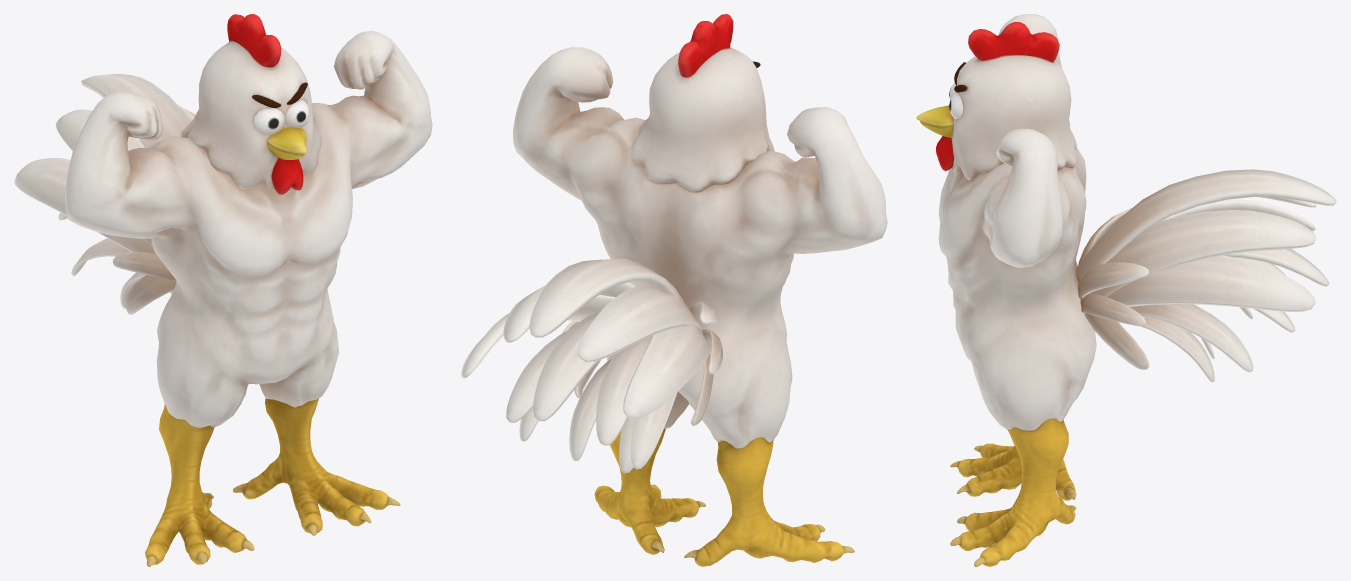
File: i_huhn.glb
3 views of the same model, side by side, from view 1: azimuth 30°, elevation 25°; view 2: azimuth 150°, elevation 25°; view 3: azimuth 270°, elevation 25° (orthographic). The views are drawn at different scales.
Parts seen in each view (by area): view 1: Object006_Chicken_0, Object012_Chicken_0, Object029_Chicken_0, Object013_Chicken_0, Sphere001, Object034_Chicken_0, Object021_Chicken_0, Object033_Chicken_0, Box001, Object031_Chicken_0; view 2: Object006_Chicken_0, Object012_Chicken_0, Object021_Chicken_0, Object029_Chicken_0, Object013_Chicken_0, Object030_Chicken_0, Object035_Chicken_0, Object032_Chicken_0, Object031_Chicken_0, Object034_Chicken_0, Object033_Chicken_0; view 3: Object006_Chicken_0, Object012_Chicken_0, Object029_Chicken_0, Object021_Chicken_0, Object013_Chicken_0, Object031_Chicken_0, Object014_Chicken_0, Object032_Chicken_0, Object034_Chicken_0, Object035_Chicken_0, Object033_Chicken_0, Object030_Chicken_0.
Boxes of the visible parts, x1=… form: Object006_Chicken_0: x1=65, y1=31, x2=432, y2=566; Object012_Chicken_0: x1=181, y1=14, x2=321, y2=194; Object029_Chicken_0: x1=14, y1=158, x2=155, y2=254; Object013_Chicken_0: x1=81, y1=74, x2=191, y2=147; Sphere001: x1=253, y1=100, x2=309, y2=135; Object034_Chicken_0: x1=125, y1=275, x2=176, y2=314; Object021_Chicken_0: x1=55, y1=105, x2=195, y2=151; Object033_Chicken_0: x1=112, y1=251, x2=176, y2=281; Box001: x1=271, y1=158, x2=303, y2=194; Object031_Chicken_0: x1=71, y1=238, x2=131, y2=276; Object006_Chicken_0: x1=513, y1=47, x2=887, y2=566; Object012_Chicken_0: x1=631, y1=14, x2=774, y2=191; Object021_Chicken_0: x1=503, y1=282, x2=703, y2=362; Object029_Chicken_0: x1=461, y1=295, x2=711, y2=419; Object013_Chicken_0: x1=529, y1=258, x2=683, y2=337; Object030_Chicken_0: x1=506, y1=328, x2=652, y2=445; Object035_Chicken_0: x1=533, y1=313, x2=599, y2=421; Object032_Chicken_0: x1=569, y1=359, x2=633, y2=473; Object031_Chicken_0: x1=519, y1=391, x2=677, y2=469; Object034_Chicken_0: x1=574, y1=354, x2=713, y2=426; Object033_Chicken_0: x1=562, y1=321, x2=722, y2=374; Object006_Chicken_0: x1=938, y1=14, x2=1096, y2=566; Object012_Chicken_0: x1=916, y1=22, x2=1076, y2=180; Object029_Chicken_0: x1=1107, y1=199, x2=1315, y2=311; Object021_Chicken_0: x1=1089, y1=197, x2=1316, y2=297; Object013_Chicken_0: x1=1075, y1=169, x2=1336, y2=283; Object031_Chicken_0: x1=1130, y1=304, x2=1253, y2=372; Object014_Chicken_0: x1=1078, y1=208, x2=1148, y2=299; Object032_Chicken_0: x1=1141, y1=317, x2=1214, y2=382; Object034_Chicken_0: x1=1084, y1=313, x2=1149, y2=369; Object035_Chicken_0: x1=1224, y1=249, x2=1329, y2=286; Object033_Chicken_0: x1=1080, y1=294, x2=1145, y2=326; Object030_Chicken_0: x1=1236, y1=257, x2=1295, y2=332.
Size of the model in its own units: 2.11 by 2.83 by 2.19.
1 material, 1 textured.
